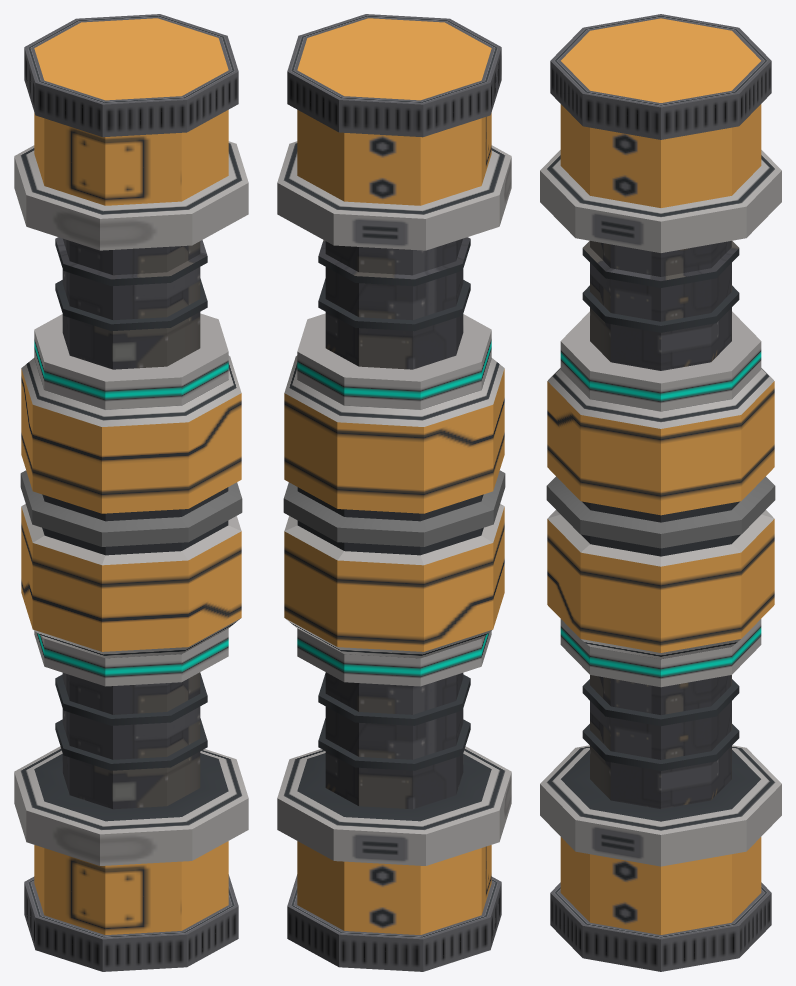
Rendered from SM_Bld_Corner_Trim_02.fbx.
3 views of the same model, side by side, from view 1: azimuth 30°, elevation 25°; view 2: azimuth 150°, elevation 25°; view 3: azimuth 270°, elevation 25° (orthographic).
Parts seen in each view (by area): view 1: SM_Bld_Corner_Trim_02; view 2: SM_Bld_Corner_Trim_02; view 3: SM_Bld_Corner_Trim_02.
Boxes of the visible parts, x1,y1,x2,y2 form: SM_Bld_Corner_Trim_02: [14, 14, 248, 971]; SM_Bld_Corner_Trim_02: [277, 14, 511, 971]; SM_Bld_Corner_Trim_02: [540, 14, 781, 971].
Size of the model in its own units: 76.09 by 300 by 76.09.
